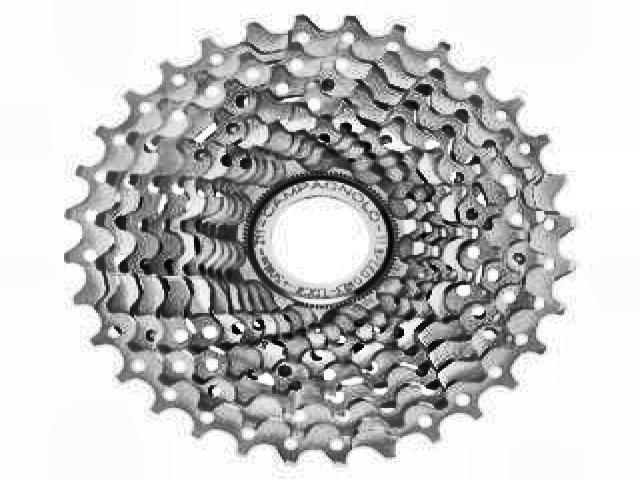cassette: (66, 8, 580, 462)
